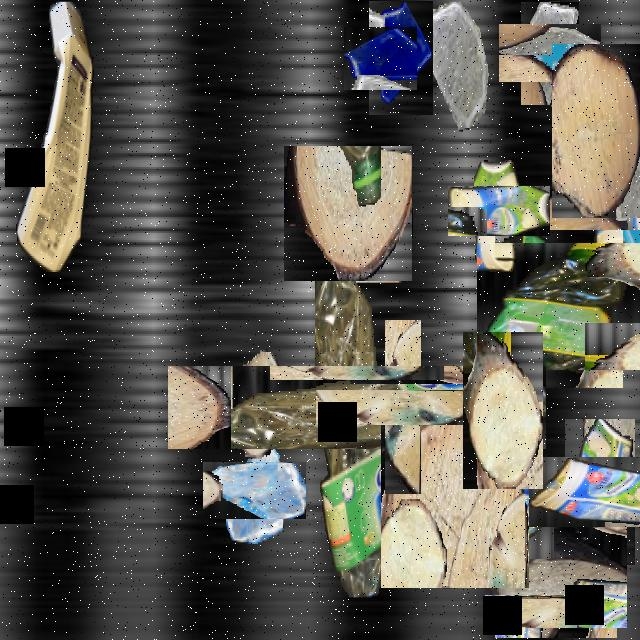glass: (417, 2, 489, 130), (356, 14, 446, 103), (215, 450, 295, 531), (510, 13, 590, 94), (574, 165, 640, 262)
plastic: (242, 292, 472, 522), (10, 2, 98, 272), (486, 233, 632, 379), (546, 438, 640, 546), (461, 173, 537, 250)
wood: (381, 400, 529, 588), (490, 501, 622, 633), (284, 146, 412, 281), (552, 45, 640, 218), (463, 332, 543, 489), (350, 354, 456, 460), (233, 350, 281, 457)
